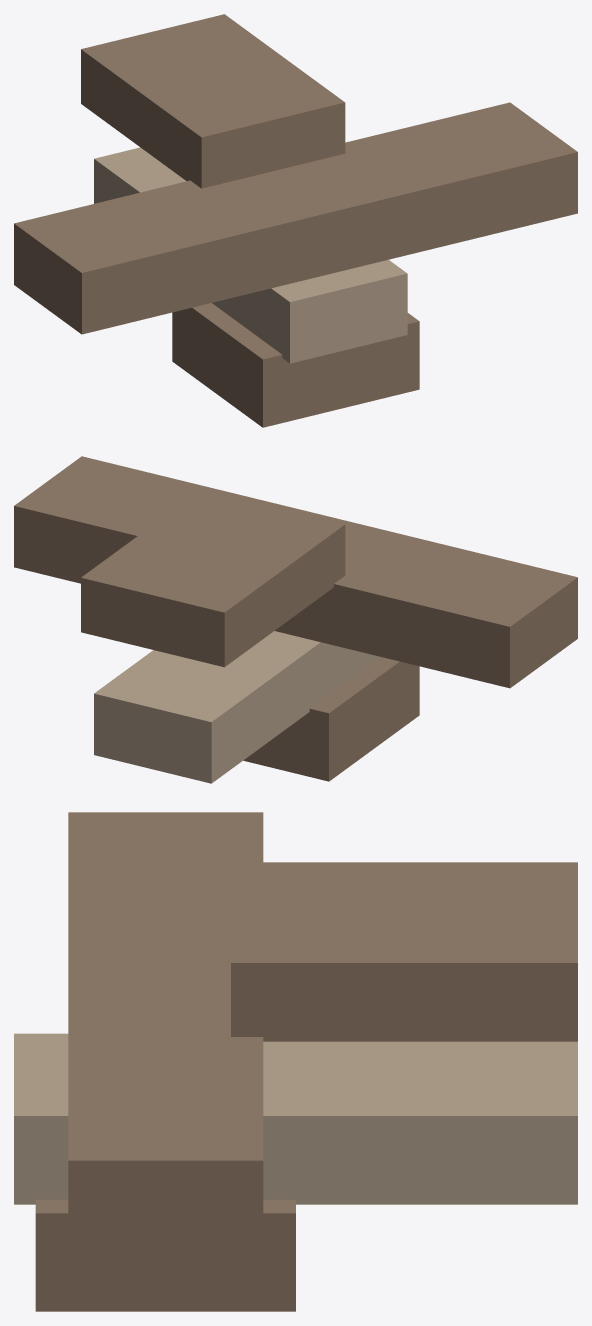
File: arch_eave_bracket.glb
3 views of the same model, one above another, from view 1: azimuth 30°, elevation 25°; view 2: azimuth 150°, elevation 25°; view 3: azimuth 270°, elevation 25° (orthographic). The views are drawn at different scales.
Visible parts, largest first — view 1: arch_eave_bracket/dougong_bracket_plate_00002, arch_eave_bracket/dougong_top_cap_00003, arch_eave_bracket/dougong_base_block_00000, arch_eave_bracket/dougong_transverse_arm_00001; view 2: arch_eave_bracket/dougong_bracket_plate_00002, arch_eave_bracket/dougong_top_cap_00003, arch_eave_bracket/dougong_transverse_arm_00001, arch_eave_bracket/dougong_base_block_00000; view 3: arch_eave_bracket/dougong_bracket_plate_00002, arch_eave_bracket/dougong_top_cap_00003, arch_eave_bracket/dougong_transverse_arm_00001, arch_eave_bracket/dougong_base_block_00000.
Part boxes in pixels (x1,y1,x2,y2): arch_eave_bracket/dougong_bracket_plate_00002: [14, 102, 577, 334]; arch_eave_bracket/dougong_top_cap_00003: [81, 14, 345, 188]; arch_eave_bracket/dougong_base_block_00000: [172, 303, 419, 427]; arch_eave_bracket/dougong_transverse_arm_00001: [94, 147, 407, 363]; arch_eave_bracket/dougong_bracket_plate_00002: [14, 456, 577, 688]; arch_eave_bracket/dougong_top_cap_00003: [81, 489, 345, 667]; arch_eave_bracket/dougong_transverse_arm_00001: [94, 631, 379, 783]; arch_eave_bracket/dougong_base_block_00000: [243, 657, 419, 781]; arch_eave_bracket/dougong_bracket_plate_00002: [68, 812, 263, 1248]; arch_eave_bracket/dougong_top_cap_00003: [231, 862, 577, 1041]; arch_eave_bracket/dougong_transverse_arm_00001: [14, 1033, 577, 1204]; arch_eave_bracket/dougong_base_block_00000: [35, 1199, 295, 1311].
Size of the model in its own units: 0.76 by 0.35 by 0.52.
